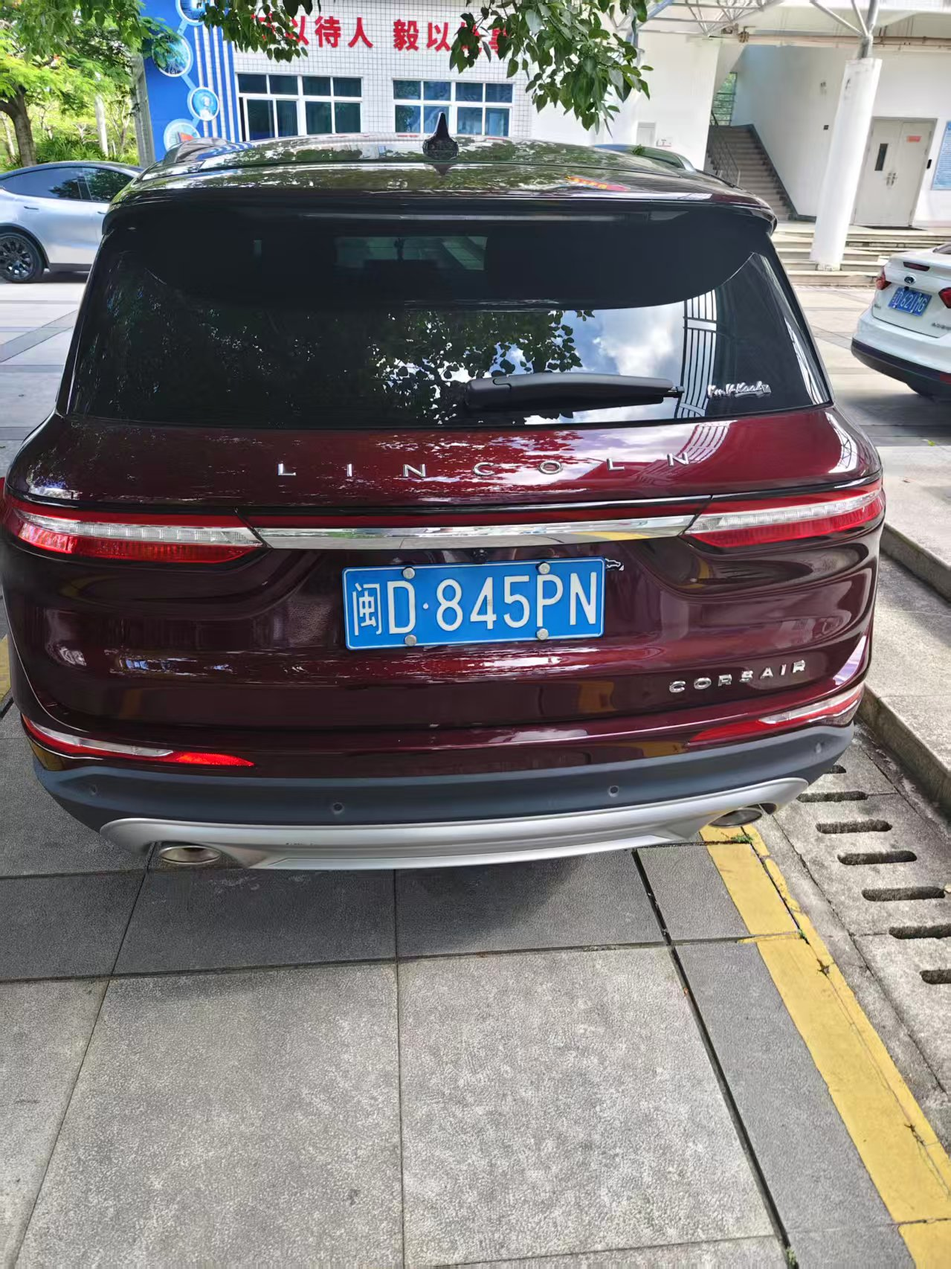plate: (345, 568, 612, 645)
